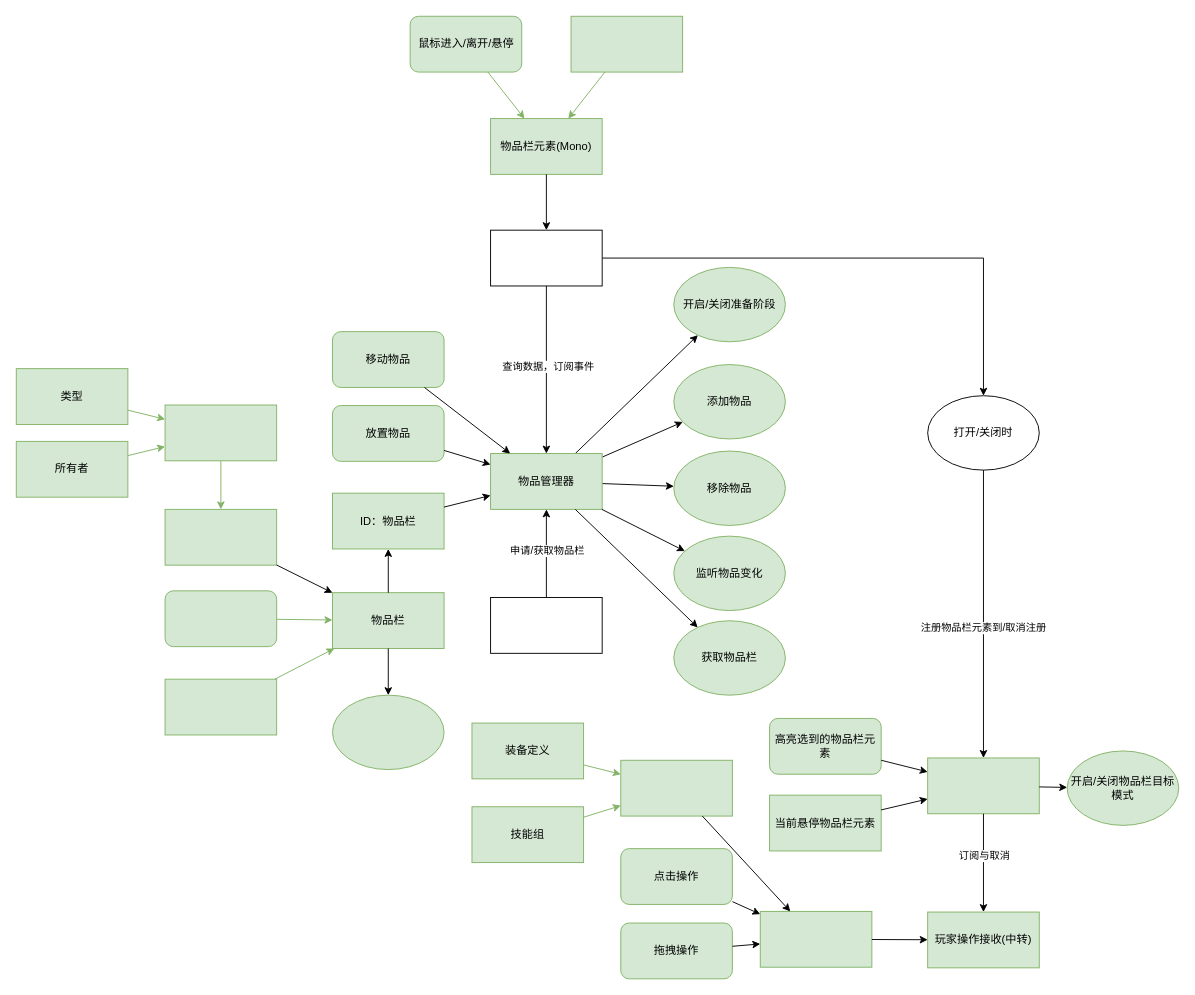
Image size: 1195x995. Some labels were removed from this diagram. The centre of each missing label's shape, as x and y in pixels:
"ID" belongs at (220,536).
"是否占用" belongs at (626,43).
"棋子/背包" belongs at (546,625).
"物品栏ID" belongs at (220,432).
"物品栏UI(Mono)" belongs at (546,257).
"物品栏管理器" belongs at (983,785).
"索引:物品" belongs at (220,706).
"装备" belongs at (676,787).
"装备元素(Mono)" belongs at (815,938).
"首个空位" belongs at (388,732).
"验满" belongs at (220,618).
